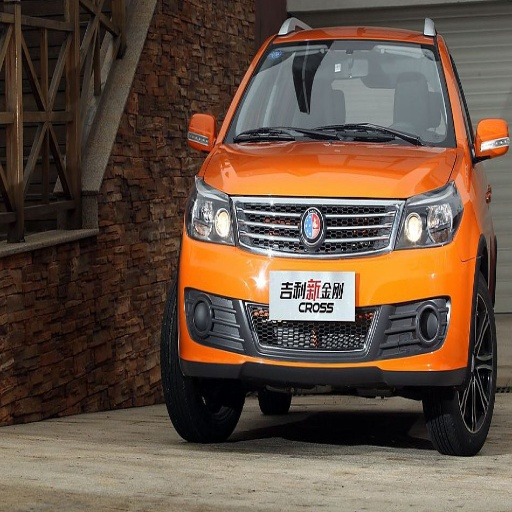front_bumper: (184, 195, 479, 383)
front_right_light: (188, 181, 235, 245)
hood: (201, 141, 459, 198)
left_mirror: (472, 118, 509, 162)
